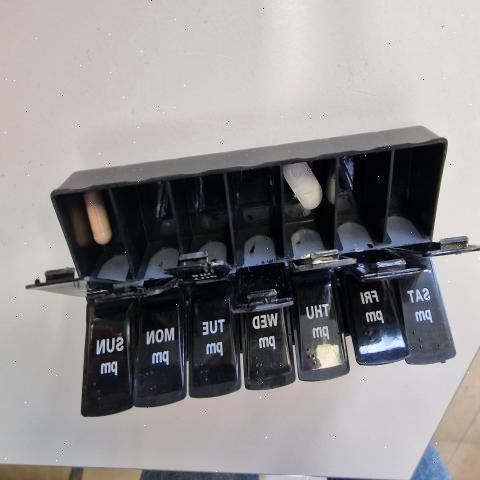Open: (340, 148, 426, 282), (27, 188, 139, 287), (393, 143, 478, 257), (226, 168, 293, 311), (104, 176, 179, 291), (284, 158, 355, 269), (170, 173, 234, 271), (340, 268, 360, 365), (240, 311, 247, 388), (183, 296, 188, 394)
